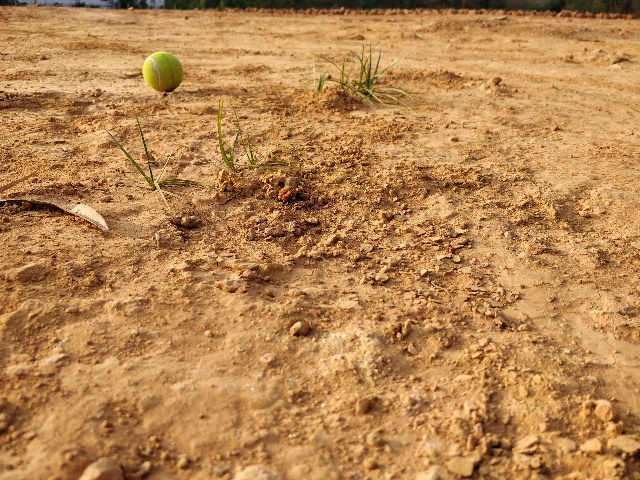ball: (139, 48, 187, 95)
